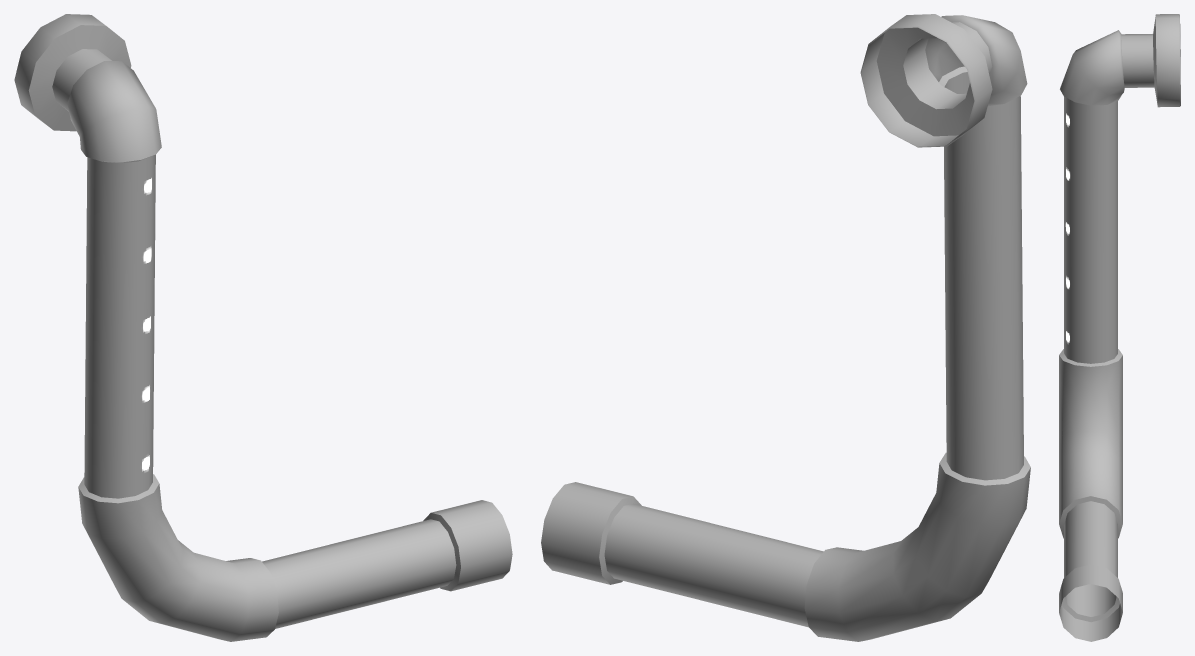
3 views of the same model, side by side, from view 1: azimuth 30°, elevation 25°; view 2: azimuth 150°, elevation 25°; view 3: azimuth 270°, elevation 25° (orthographic). The views are drawn at different scales.
Visible parts, largest first — view 1: KF_SM_Tube1; view 2: KF_SM_Tube1; view 3: KF_SM_Tube1.
Boxes of the visible parts, bbox=[...] form: KF_SM_Tube1: bbox=[14, 14, 512, 641]; KF_SM_Tube1: bbox=[541, 14, 1030, 641]; KF_SM_Tube1: bbox=[1059, 14, 1180, 641].
Bounding box in the file's own units: 175 × 243 × 55.56.
